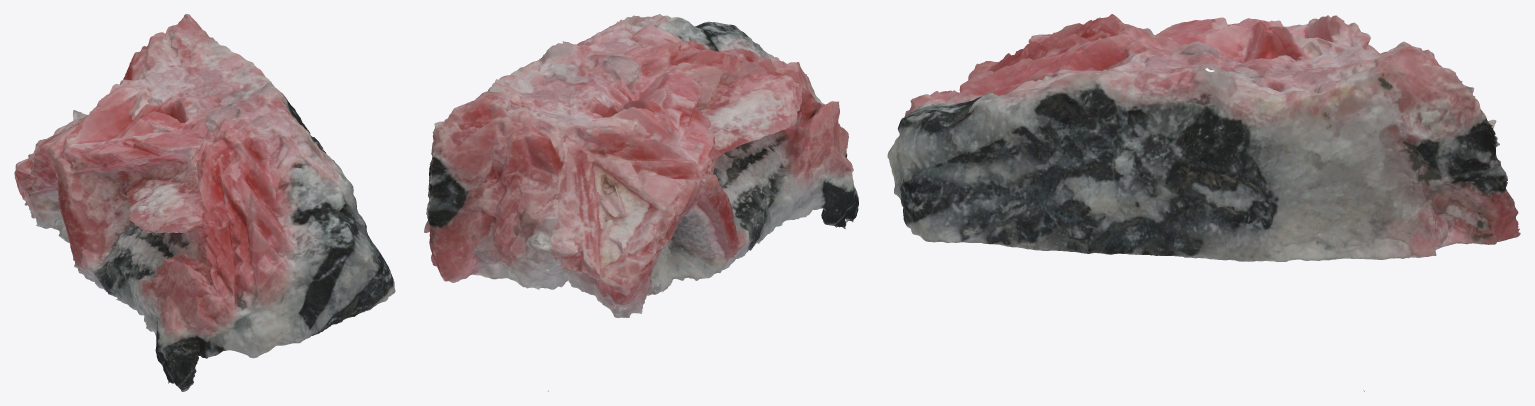
File: rhodochrosite.glb
3 views of the same model, side by side, from view 1: azimuth 30°, elevation 25°; view 2: azimuth 150°, elevation 25°; view 3: azimuth 270°, elevation 25° (orthographic). The views are drawn at different scales.
Visible parts, largest first — view 1: Object_4; view 2: Object_4; view 3: Object_4.
Part boxes in pixels (x1,y1,x2,y2): Object_4: (14,14,395,391); Object_4: (424,14,858,391); Object_4: (887,14,1520,391).
Size of the model in its own units: 3.33 by 3.61 by 5.65.
1 material, 1 textured.
